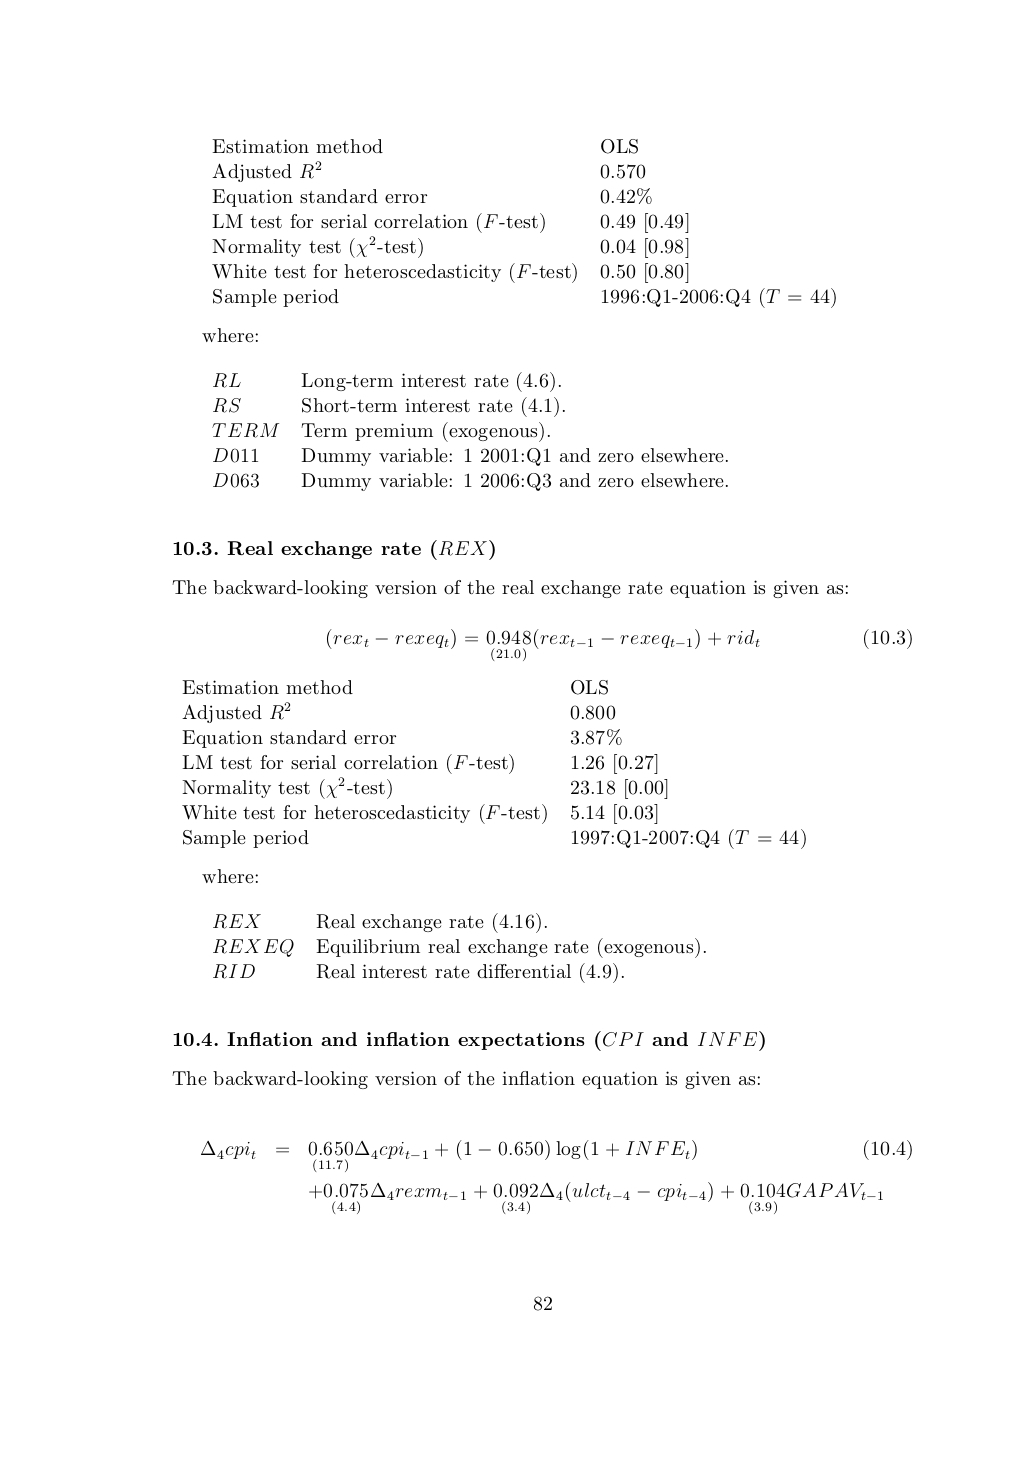Table: (182, 680, 805, 848), (212, 140, 835, 307)
formula: (201, 1139, 911, 1173), (327, 628, 911, 662), (309, 1181, 882, 1215)
